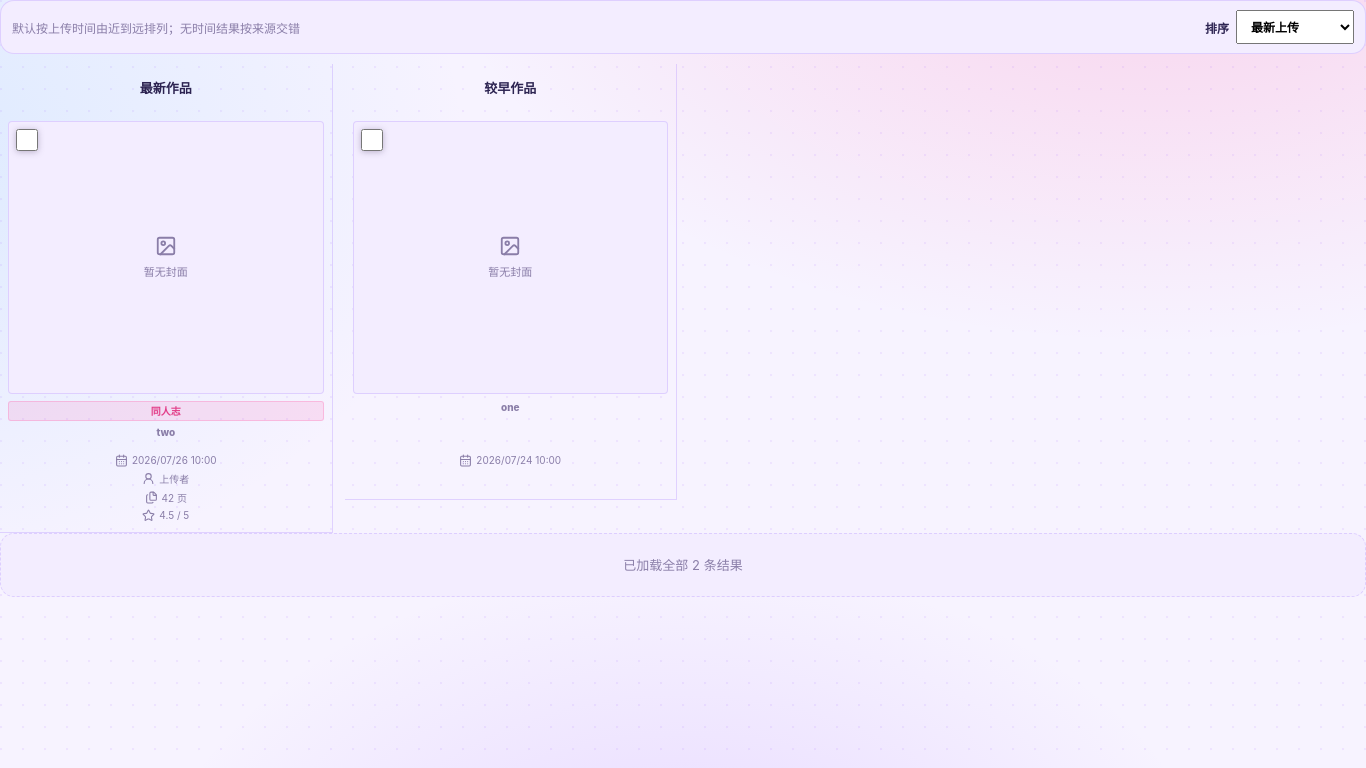
SearchResultsView › 打开二级详情后按需补齐 Tag，并提供阅读和下载
Click the button with aria-label "查看详情：最新作品" at [166, 257], box [8,121,324,394]
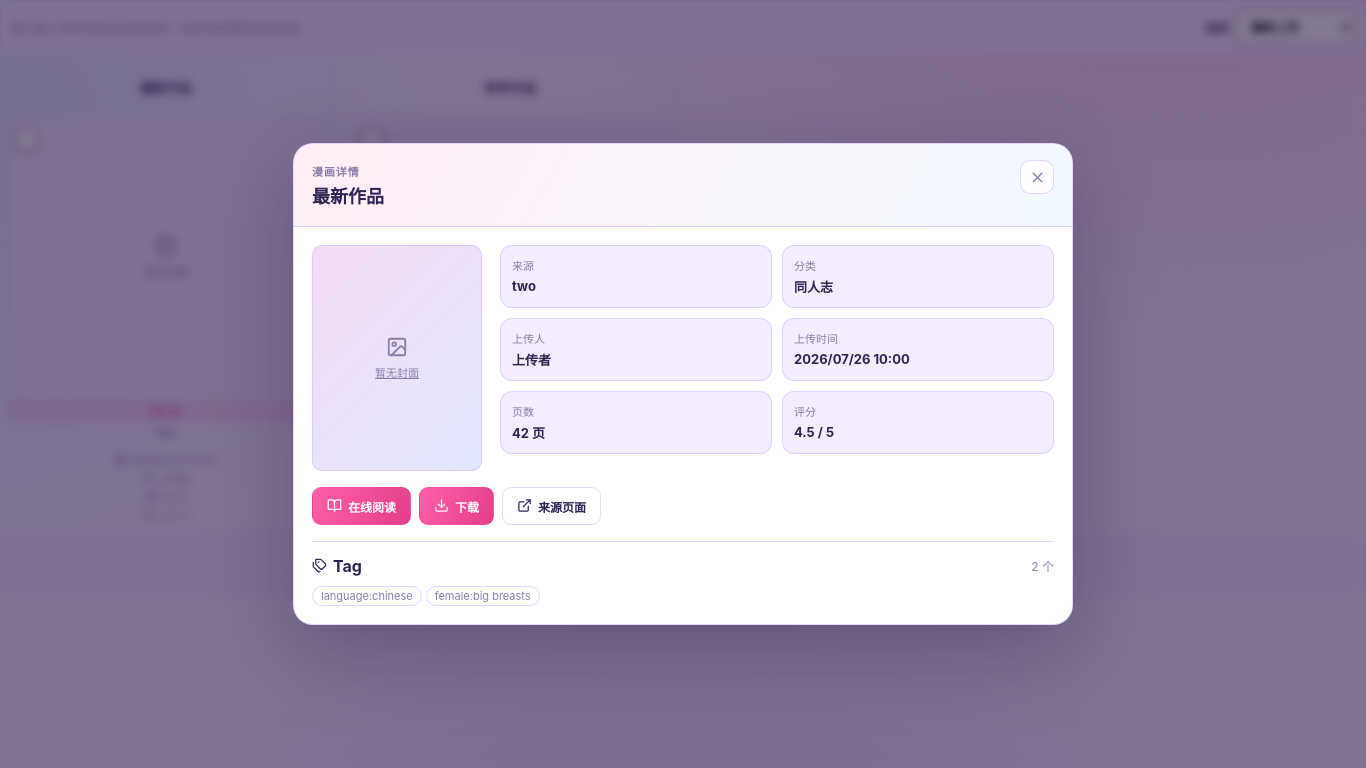
Check: the dialog "最新作品" is shown, box [293,143,1073,625]
Check: the text "female:big breasts" is shown, box [426,586,540,606]
Check: the button "在线阅读" is enabled, box [312,487,411,525]
